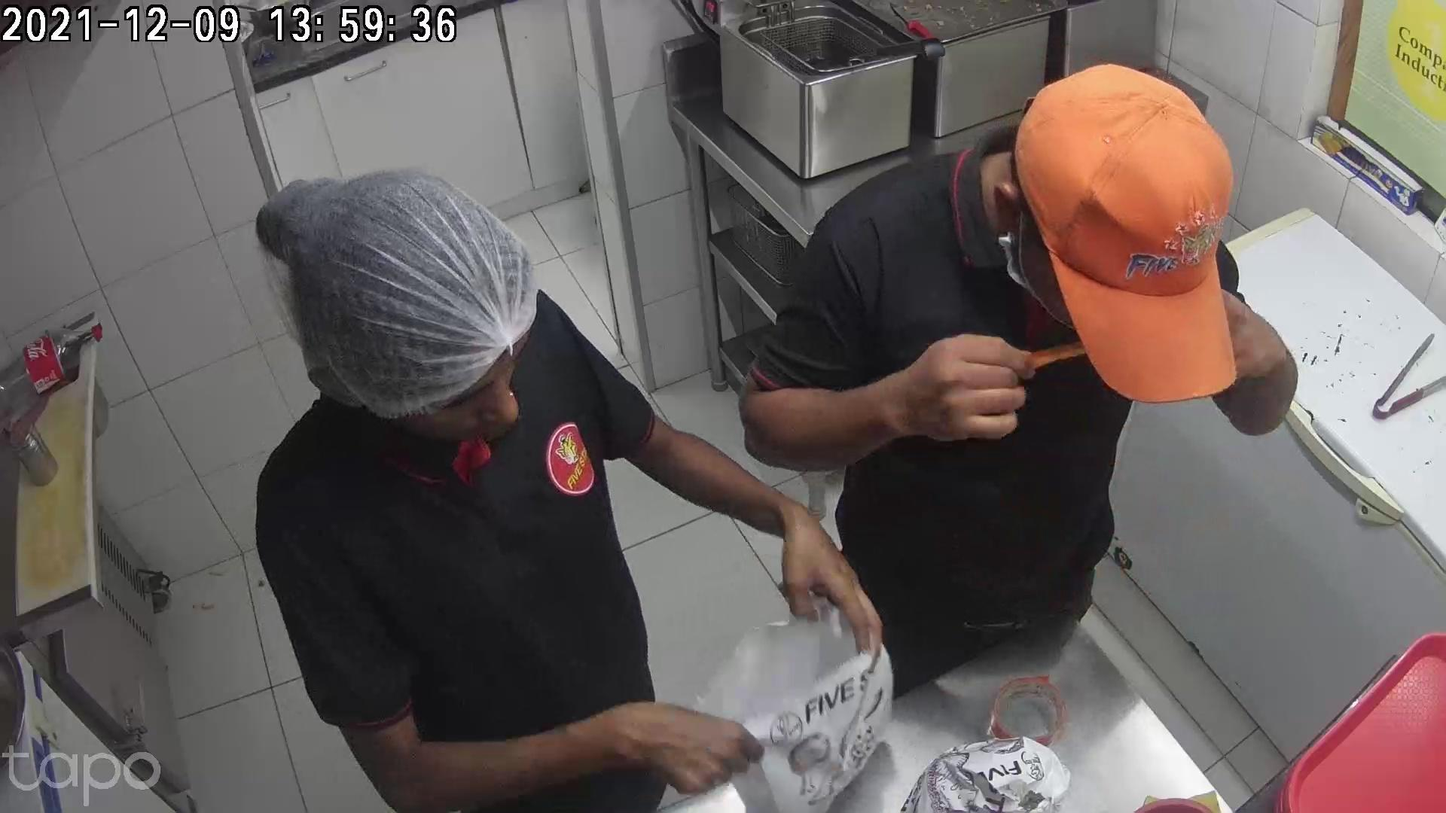no_gloves: (849, 346, 1028, 458)
